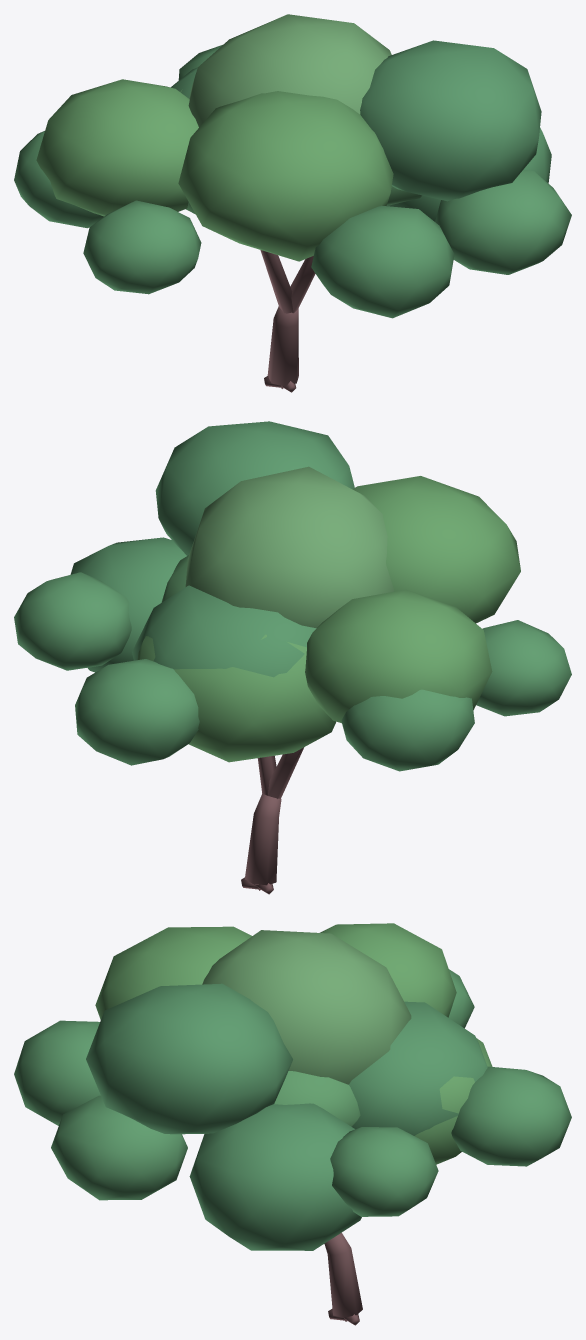
File: oak_b2.glb
3 renders of one model, top to bottom at view 1: azimuth 30°, elevation 25°; view 2: azimuth 150°, elevation 25°; view 3: azimuth 270°, elevation 25°, orthographic. The views are drawn at different scales.
Visible parts, largest first — view 1: oak_b2; view 2: oak_b2; view 3: oak_b2.
Boxes of the visible parts, x1,y1,x2,y2 form: oak_b2: (14,14,571,392); oak_b2: (14,421,571,894); oak_b2: (14,923,571,1325).
Size of what is drawn, in the model's own units: 20.27 by 16 by 21.45.
